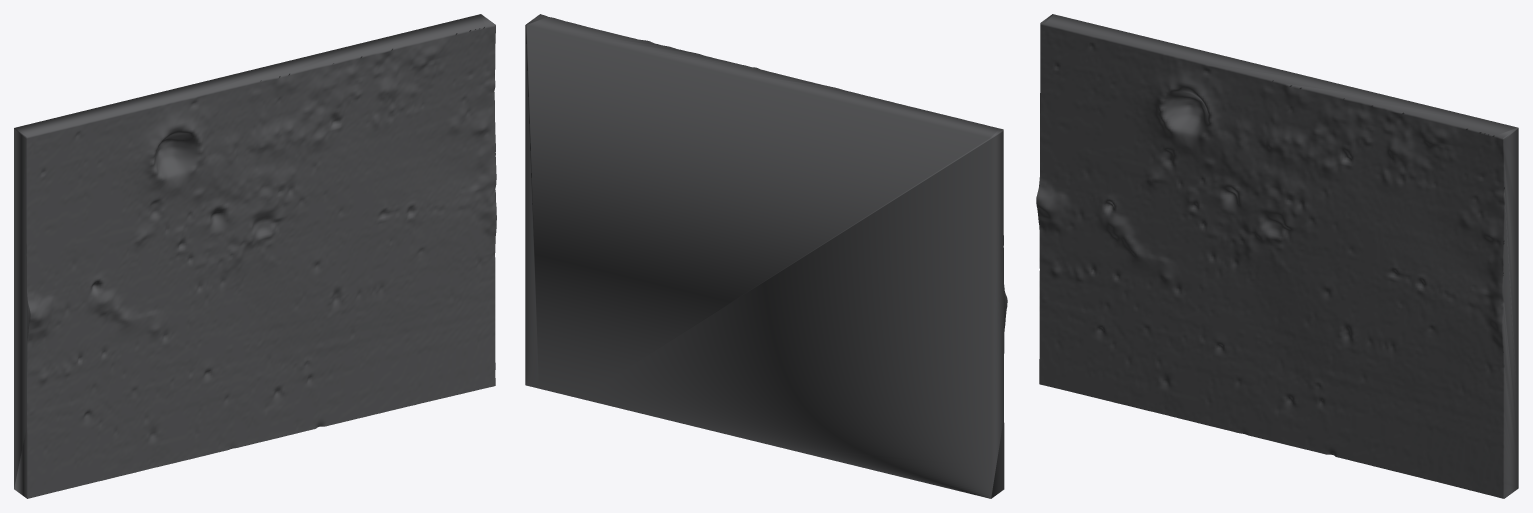
The model's file is ksc-terrain-2.obj.
The picture shows the model from 3 angles, left to right: view 1: azimuth 30°, elevation 25°; view 2: azimuth 150°, elevation 25°; view 3: azimuth 330°, elevation 25°; orthographic projection.
Bounding box in the file's own units: 7.22 × 5.34 × 0.4386.
